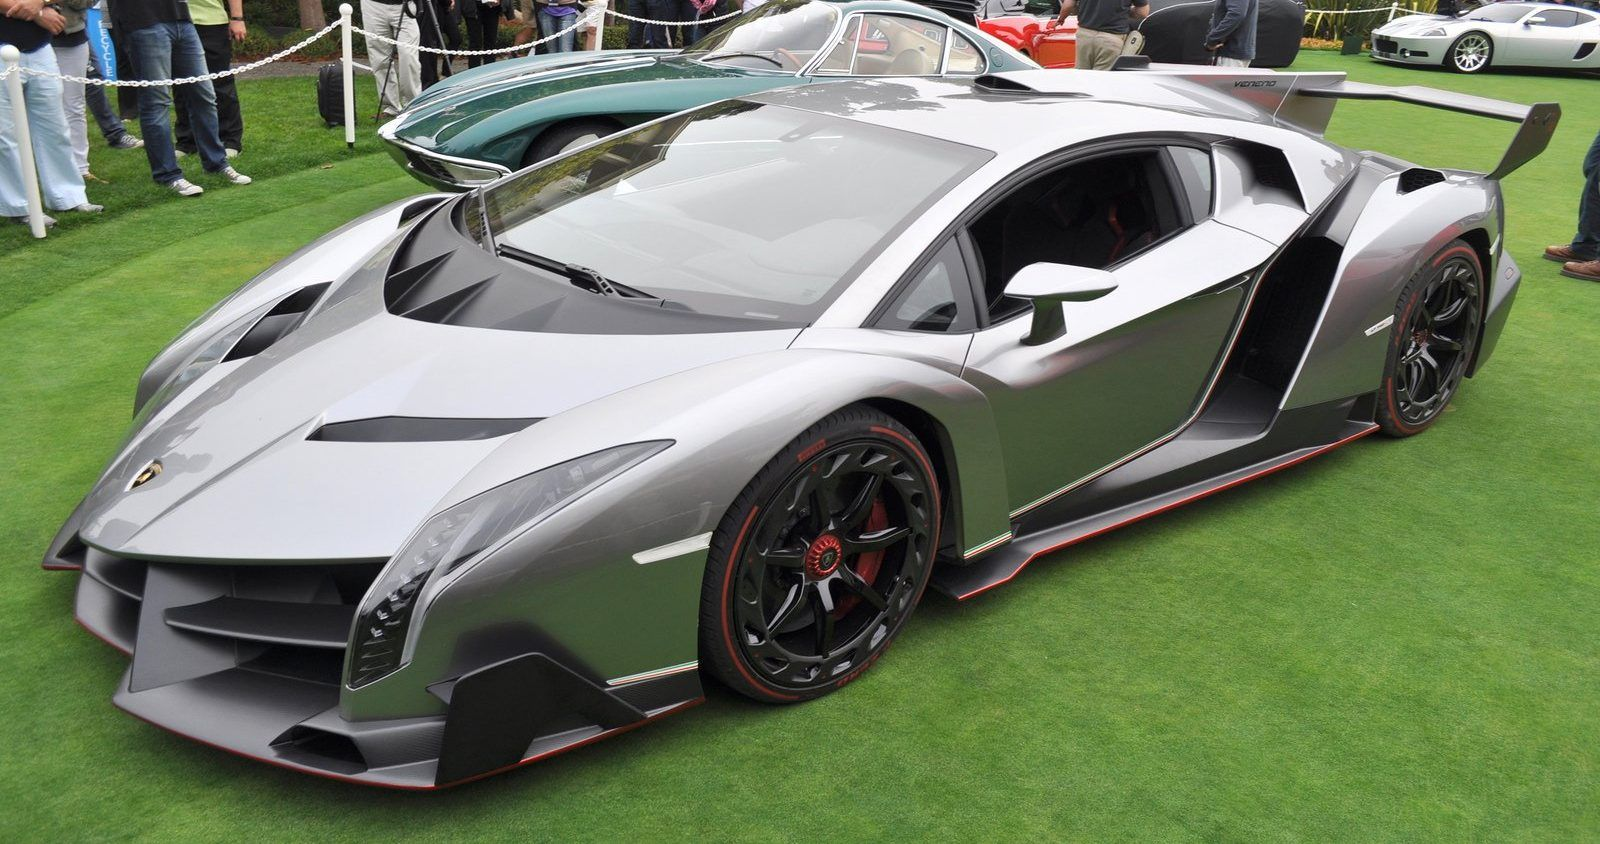headlight: (337, 395, 677, 676)
wheel: (696, 395, 987, 723), (1364, 198, 1501, 453), (1443, 25, 1509, 72)
